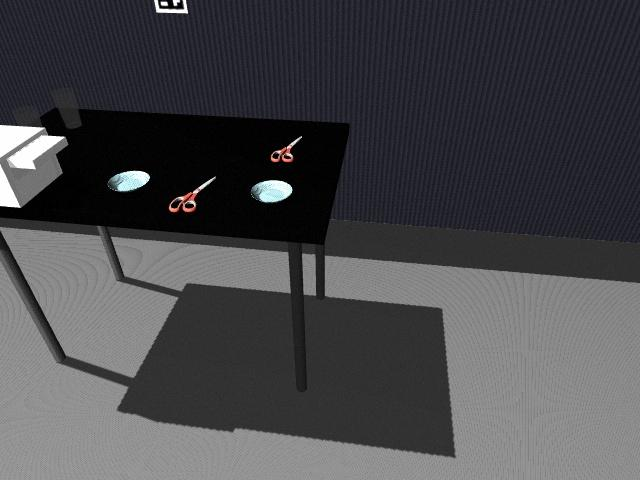cup: (51, 88, 82, 129), (12, 106, 43, 129)
plate: (251, 179, 295, 204), (108, 171, 150, 192)
scissors: (168, 174, 217, 214), (271, 135, 302, 163)
